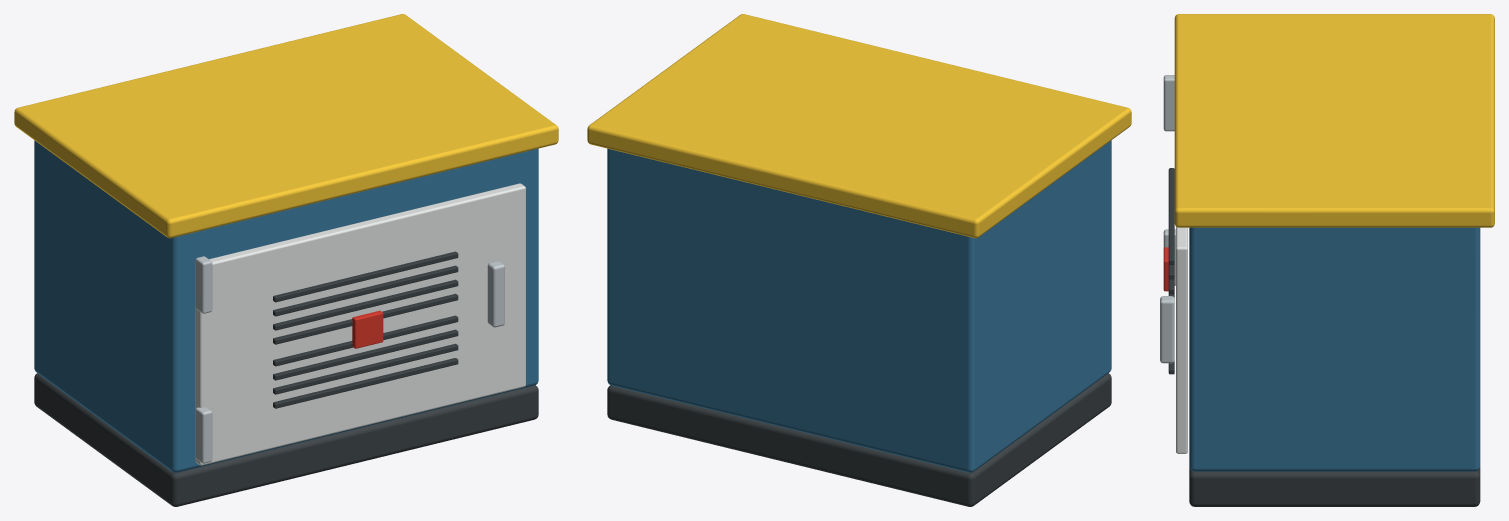
Rendered from recycling-centre-and-material-sorting-battery-isolatio-6d142e1a__31136.glb.
3 views of the same model, side by side, from view 1: azimuth 30°, elevation 25°; view 2: azimuth 150°, elevation 25°; view 3: azimuth 270°, elevation 25° (orthographic). The views are drawn at different scales.
Visible parts, largest first — view 1: battery-isolation-chest; view 2: battery-isolation-chest; view 3: battery-isolation-chest.
Boxes of the visible parts, x1=… form: battery-isolation-chest: x1=14, y1=14, x2=558, y2=506; battery-isolation-chest: x1=587, y1=14, x2=1131, y2=506; battery-isolation-chest: x1=1160, y1=14, x2=1494, y2=506.
Bounding box in the file's own units: 0.96 × 0.695 × 0.69.
